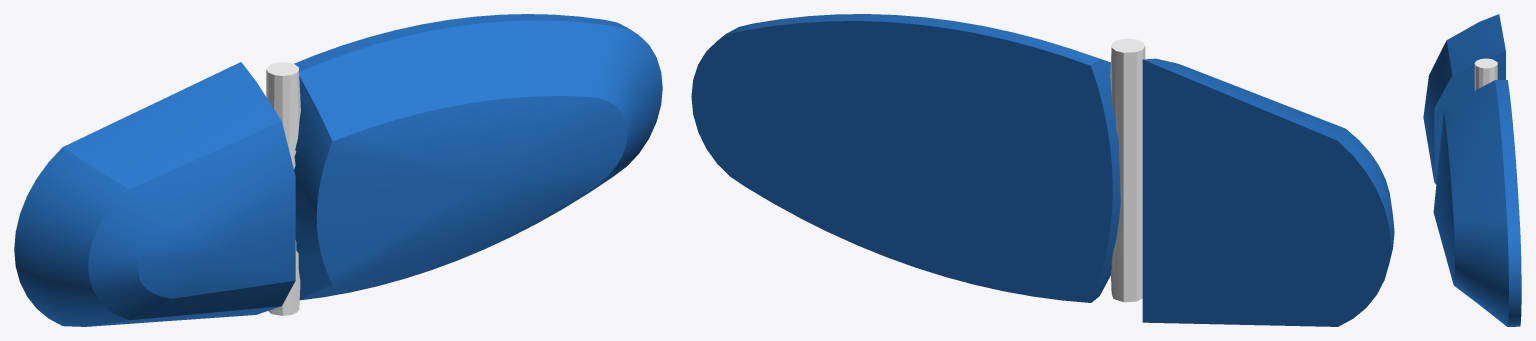
The model's file is foot_right.obj.
The picture shows the model from 3 angles, left to right: view 1: azimuth 30°, elevation 25°; view 2: azimuth 150°, elevation 25°; view 3: azimuth 270°, elevation 25°; orthographic projection. The views are drawn at different scales.
Parts seen in each view (by area): view 1: Mesh2 Component_1_1 Model, Mesh1 Component_1_1 Model; view 2: Mesh2 Component_1_1 Model, Mesh1 Component_1_1 Model; view 3: Mesh2 Component_1_1 Model, Mesh1 Component_1_1 Model.
Boxes of the visible parts, left/top/right/bottom form: Mesh2 Component_1_1 Model: left=266, top=14, right=662, bottom=315; Mesh1 Component_1_1 Model: left=14, top=62, right=295, bottom=326; Mesh2 Component_1_1 Model: left=691, top=14, right=1145, bottom=302; Mesh1 Component_1_1 Model: left=1142, top=58, right=1394, bottom=326; Mesh2 Component_1_1 Model: left=1433, top=58, right=1521, bottom=326; Mesh1 Component_1_1 Model: left=1423, top=14, right=1505, bottom=184.
Bounding box in the file's own units: 0.1432 × 0.0527 × 0.0261.
